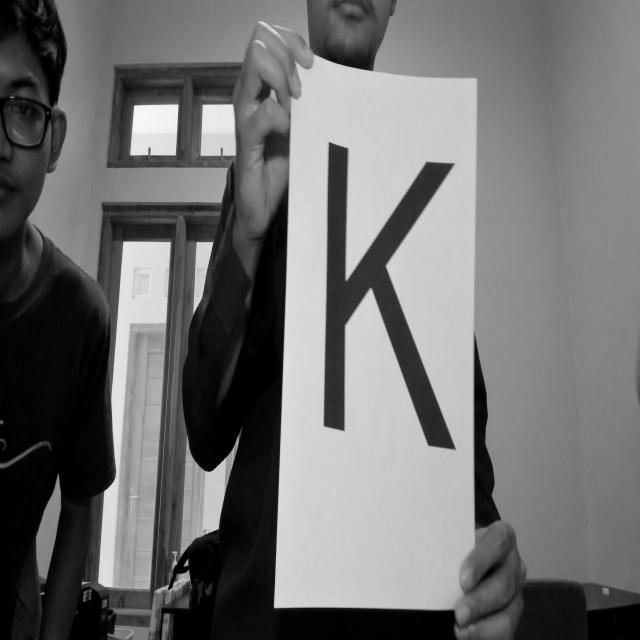k: (294, 113, 488, 496)
